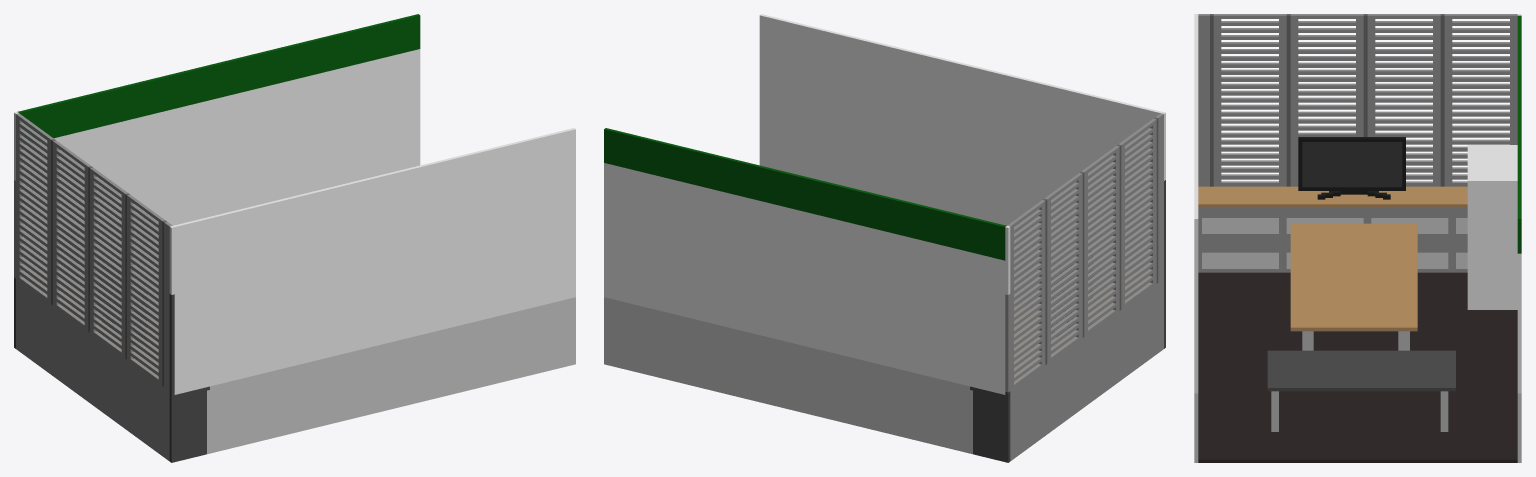
File: ScramRoom.obj
3 views of the same model, side by side, from view 1: azimuth 30°, elevation 25°; view 2: azimuth 150°, elevation 25°; view 3: azimuth 270°, elevation 25° (orthographic). The views are drawn at different scales.
Visible parts, largest first — view 1: ScramRoom; view 2: ScramRoom; view 3: ScramRoom.
Boxes of the visible parts, bbox=[...] form: ScramRoom: bbox=[14, 14, 575, 462]; ScramRoom: bbox=[604, 14, 1165, 462]; ScramRoom: bbox=[1194, 14, 1521, 462].
Size of the model in its own units: 126 by 70 by 85.
1 material, 1 textured.
